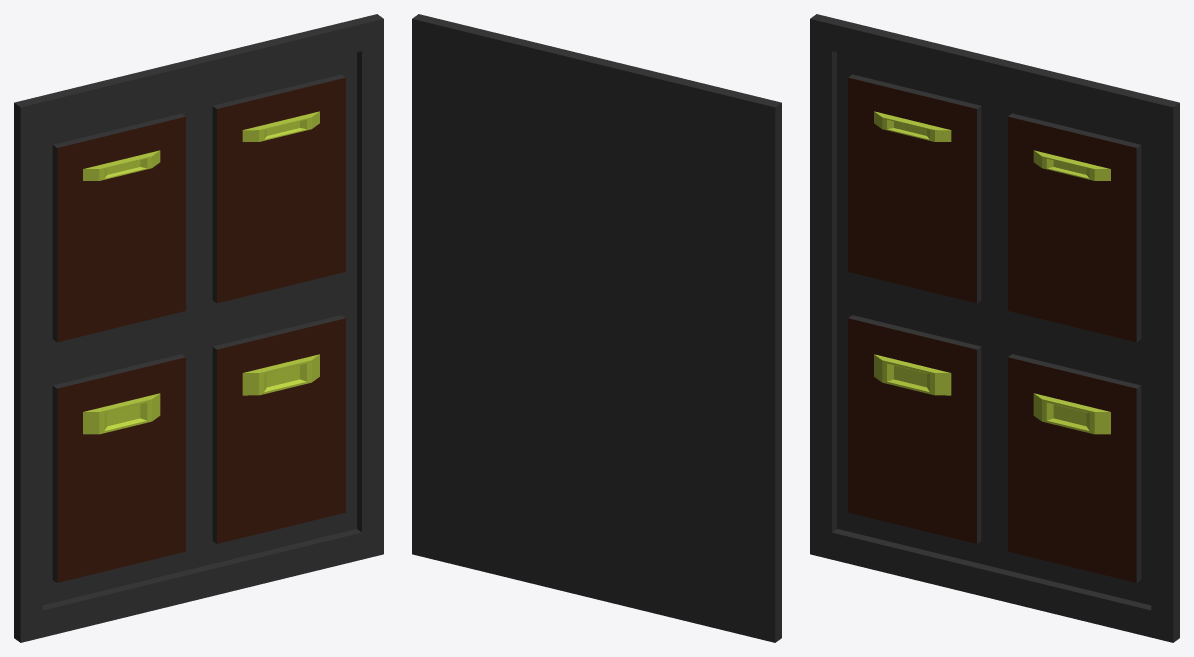
File: FPXdoor.fbx
3 renders of one model, left to right at view 1: azimuth 30°, elevation 25°; view 2: azimuth 150°, elevation 25°; view 3: azimuth 330°, elevation 25°, orthographic.
Visible parts, largest first — view 1: Door; view 2: Door; view 3: Door.
Boxes of the visible parts, x1,y1,x2,y2 form: Door: [14, 14, 383, 642]; Door: [412, 14, 781, 642]; Door: [810, 14, 1179, 642].
Bounding box in the file's own units: 2.55 × 3.6 × 0.1206.
